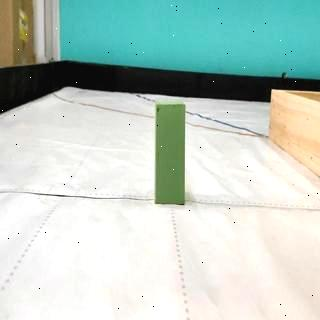greenbox: (152, 100, 186, 206)
